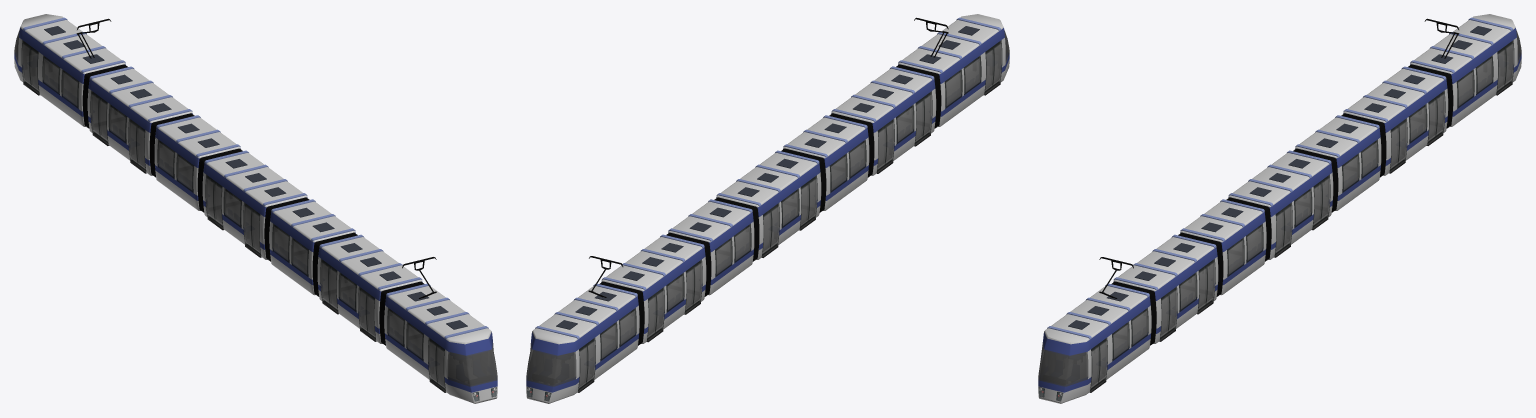
File: tramway.obj
3 renders of one model, left to right at view 1: azimuth 30°, elevation 25°; view 2: azimuth 150°, elevation 25°; view 3: azimuth 330°, elevation 25°, orthographic.
Parts seen in each view (by area): view 1: Wagons_Cube.001_Wagons_Cube.002, Locomotives_Cube.001, SupShapes_Cube.020, Inbetweens_Cube.006, hooks_Cube.004; view 2: Wagons_Cube.001_Wagons_Cube.002, Locomotives_Cube.001, SupShapes_Cube.020, Inbetweens_Cube.006, hooks_Cube.004; view 3: Wagons_Cube.001_Wagons_Cube.002, Locomotives_Cube.001, Wagons_Left_Windows, SupShapes_Cube.020, Locomotives_Left_Windows, Inbetweens_Cube.006, hooks_Cube.004.
Part boxes in pixels (bbox=[...]): Wagons_Cube.001_Wagons_Cube.002: bbox=[87, 68, 422, 343]; Locomotives_Cube.001: bbox=[14, 14, 497, 403]; SupShapes_Cube.020: bbox=[23, 17, 488, 339]; Inbetweens_Cube.006: bbox=[82, 64, 424, 345]; hooks_Cube.004: bbox=[76, 18, 436, 298]; Wagons_Cube.001_Wagons_Cube.002: bbox=[601, 68, 936, 343]; Locomotives_Cube.001: bbox=[526, 14, 1009, 403]; SupShapes_Cube.020: bbox=[535, 17, 1000, 339]; Inbetweens_Cube.006: bbox=[599, 64, 941, 345]; hooks_Cube.004: bbox=[588, 17, 948, 297]; Wagons_Cube.001_Wagons_Cube.002: bbox=[1113, 68, 1448, 343]; Locomotives_Cube.001: bbox=[1038, 14, 1521, 403]; Wagons_Left_Windows: bbox=[1160, 90, 1445, 339]; SupShapes_Cube.020: bbox=[1047, 17, 1512, 339]; Locomotives_Left_Windows: bbox=[1090, 40, 1514, 390]; Inbetweens_Cube.006: bbox=[1111, 64, 1453, 345]; hooks_Cube.004: bbox=[1099, 18, 1459, 298].
Bounding box in the file's own units: 245 × 482 × 4223.
